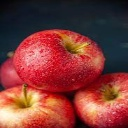apple: (73, 73, 128, 128)
